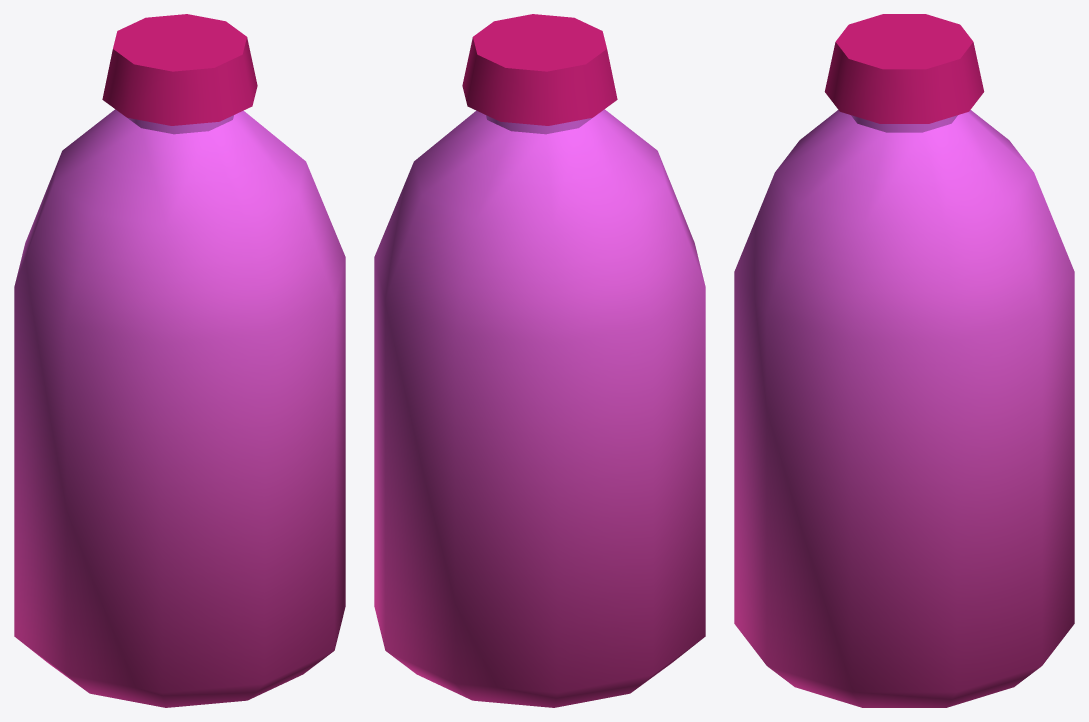
File: bottle_big_pink.fbx
The picture shows the model from 3 angles, left to right: view 1: azimuth 30°, elevation 25°; view 2: azimuth 150°, elevation 25°; view 3: azimuth 270°, elevation 25°; orthographic projection.
Visible parts, largest first — view 1: bottle_big_pink; view 2: bottle_big_pink; view 3: bottle_big_pink.
Boxes of the visible parts, x1=… form: bottle_big_pink: x1=14, y1=14, x2=345, y2=707; bottle_big_pink: x1=374, y1=14, x2=705, y2=707; bottle_big_pink: x1=734, y1=14, x2=1074, y2=707.
Bounding box in the file's own units: 190 × 397 × 200.
